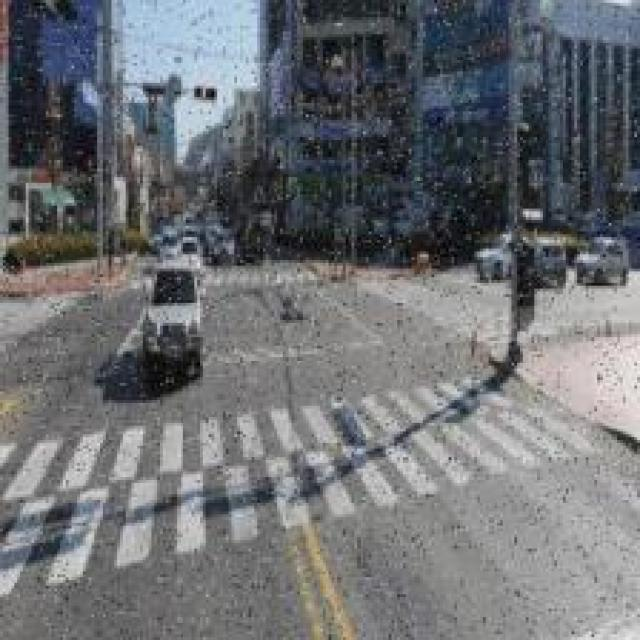crosswalk: (0, 376, 605, 582)
